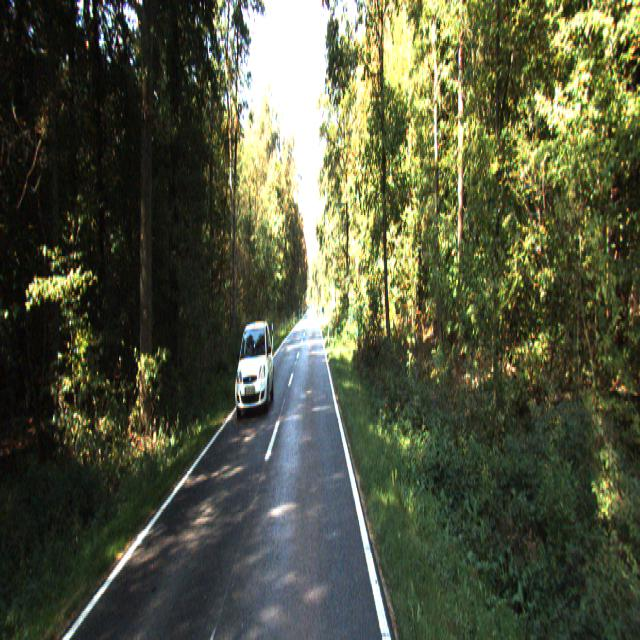Car: (232, 321, 276, 418)
